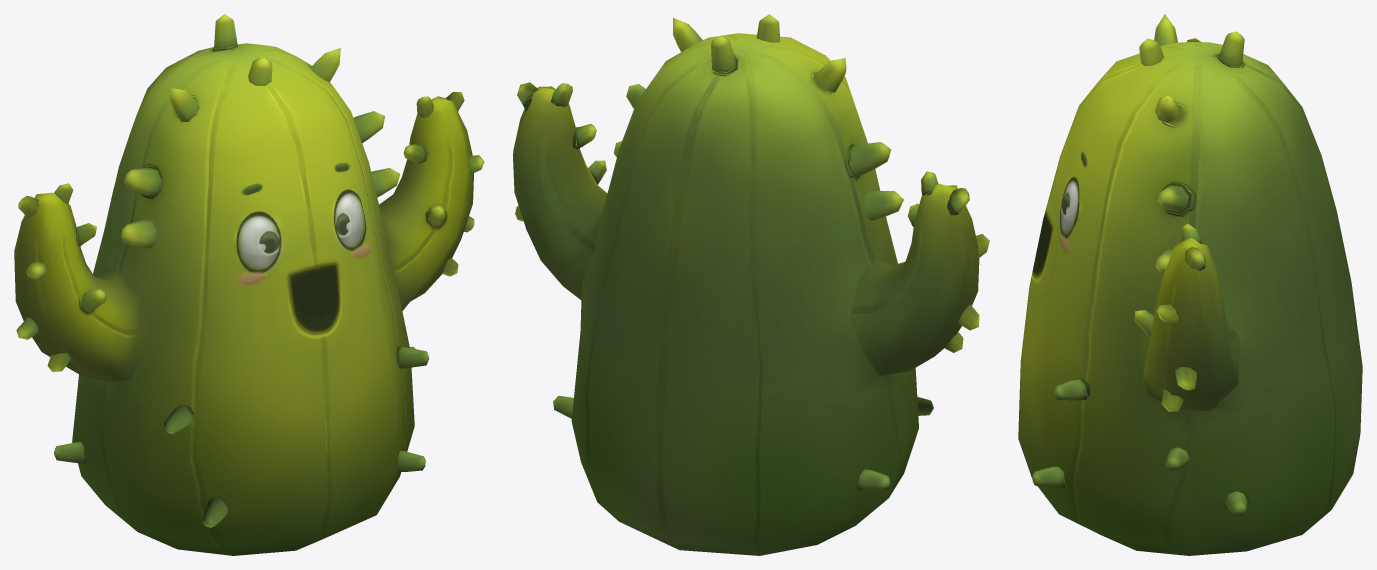
The model's file is cactus_lowpoly.glb.
3 views of the same model, side by side, from view 1: azimuth 30°, elevation 25°; view 2: azimuth 150°, elevation 25°; view 3: azimuth 270°, elevation 25° (orthographic).
Parts seen in each view (by area): view 1: than_geo1, gai2_geo2, gai2_geo4, gai3_geo3, gai5_geo, gai2_geo, gai3_geo4, gai4_geo6, gai4_geo5, gai4_geo4, gai5_geo1, gai2_geo3 (+1 smaller); view 2: than_geo1, gai2_geo2, gai2_geo4, gai5_geo, gai3_geo3, gai3_geo4, gai4_geo2; view 3: than_geo1, gai5_geo, gai4_geo6, gai2_geo, gai4_geo3, gai5_geo1, gai3_geo4, gai3_geo3, gai4_geo, gai1_geo4, gai4_geo7.
Boxes of the visible parts, <box> form: than_geo1: <box>14,43,473,555</box>; gai2_geo2: <box>124,168,161,197</box>; gai2_geo4: <box>121,219,156,248</box>; gai3_geo3: <box>169,88,199,121</box>; gai5_geo: <box>214,14,237,50</box>; gai2_geo: <box>353,111,384,142</box>; gai3_geo4: <box>310,48,340,82</box>; gai4_geo6: <box>396,346,429,368</box>; gai4_geo5: <box>164,404,194,434</box>; gai4_geo4: <box>202,496,228,527</box>; gai5_geo1: <box>248,57,272,85</box>; gai2_geo3: <box>371,168,400,197</box>; than_geo1: <box>513,33,979,555</box>; gai2_geo2: <box>849,142,891,176</box>; gai2_geo4: <box>864,190,903,220</box>; gai5_geo: <box>711,36,736,72</box>; gai3_geo3: <box>817,58,846,92</box>; gai3_geo4: <box>673,18,702,51</box>; gai4_geo2: <box>857,469,890,490</box>; than_geo1: <box>1018,42,1362,555</box>; gai5_geo: <box>1218,31,1244,67</box>; gai4_geo6: <box>1054,378,1090,400</box>; gai2_geo: <box>1158,185,1188,212</box>; gai4_geo3: <box>1032,466,1067,487</box>; gai5_geo1: <box>1139,38,1164,65</box>; gai3_geo4: <box>1155,95,1179,122</box>; gai3_geo3: <box>1154,14,1177,45</box>; gai4_geo: <box>1224,491,1247,515</box>; gai1_geo4: <box>1175,367,1196,390</box>; gai4_geo7: <box>1165,447,1189,470</box>.
Size of the model in its own units: 470 by 481 by 308.
1 material, 1 textured.
